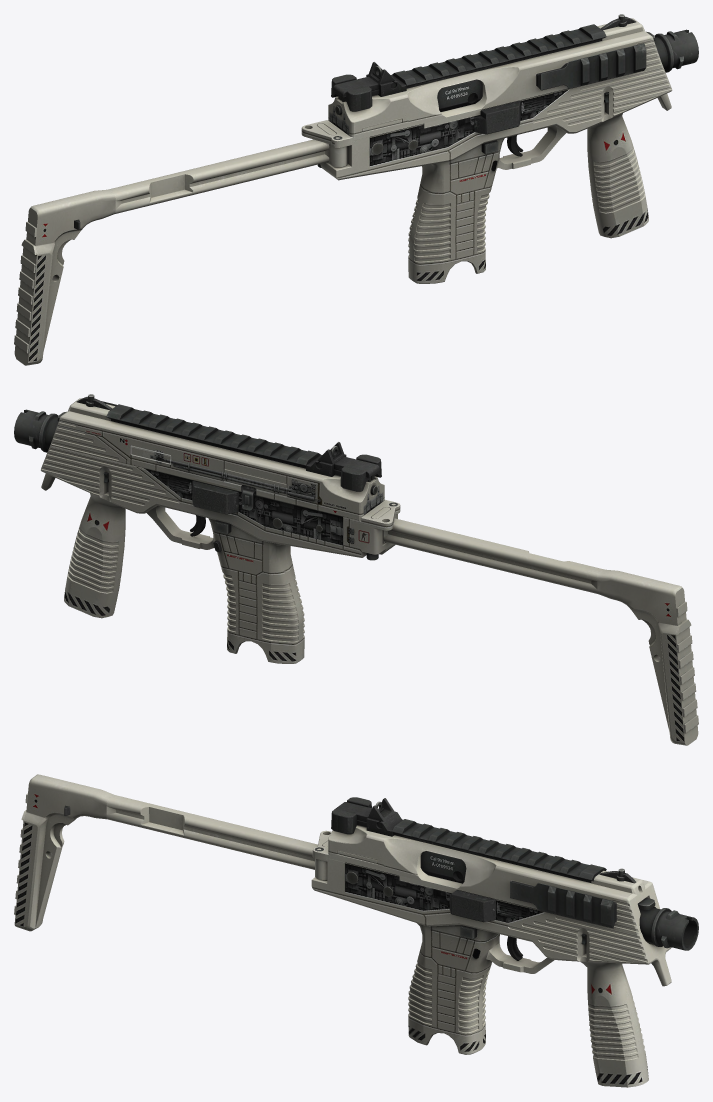
File: w_smg_narcis.glb
The picture shows the model from 3 angles, top to bottom: view 1: azimuth 30°, elevation 25°; view 2: azimuth 150°, elevation 25°; view 3: azimuth 330°, elevation 25°; orthographic projection.
Visible parts, largest first — view 1: Gun_Root; view 2: Gun_Root; view 3: Gun_Root.
Boxes of the visible parts, bbox=[...] form: Gun_Root: bbox=[14, 14, 698, 365]; Gun_Root: bbox=[14, 394, 698, 745]; Gun_Root: bbox=[14, 774, 698, 1087].
Bounding box in the file's own units: 0.531 × 0.169 × 0.0486.
1 material, 1 textured.
